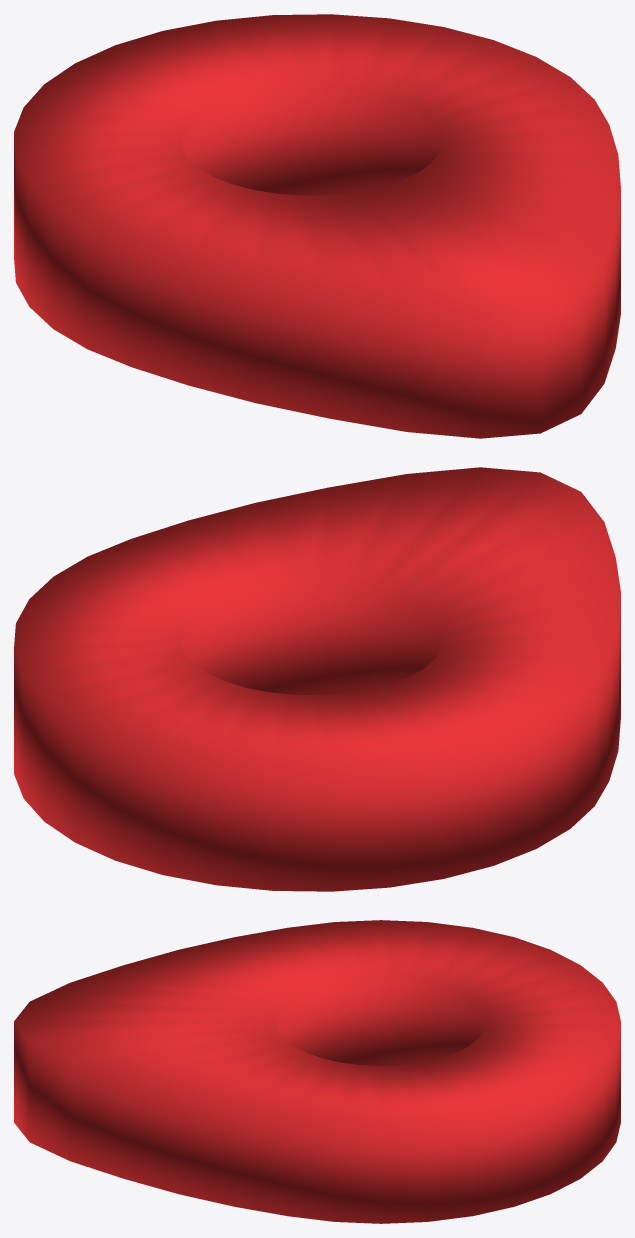
The model's file is marker.glb.
3 renders of one model, top to bottom at view 1: azimuth 30°, elevation 25°; view 2: azimuth 150°, elevation 25°; view 3: azimuth 270°, elevation 25°, orthographic. The views are drawn at different scales.
Parts seen in each view (by area): view 1: Marker; view 2: Marker; view 3: Marker.
Boxes of the visible parts, bbox=[...] form: Marker: bbox=[14, 14, 620, 438]; Marker: bbox=[14, 467, 620, 891]; Marker: bbox=[14, 920, 620, 1223].
Size of the model in its own units: 2 by 0.4652 by 2.53.
